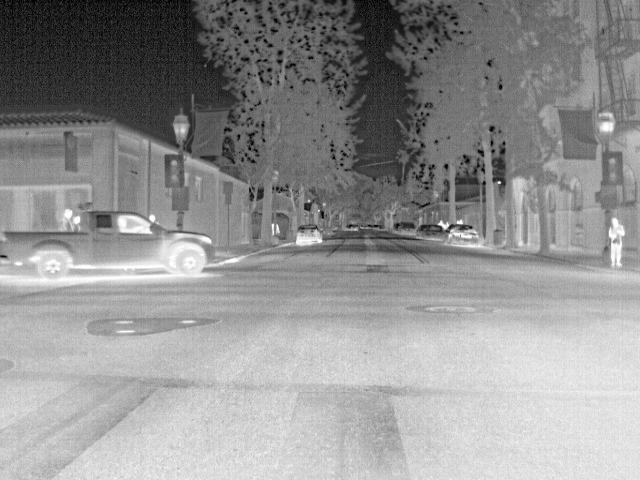car: (4, 209, 219, 277), (446, 223, 483, 249), (294, 221, 324, 247), (417, 222, 446, 243), (398, 221, 418, 238)
person: (608, 218, 626, 267), (59, 206, 77, 232)
